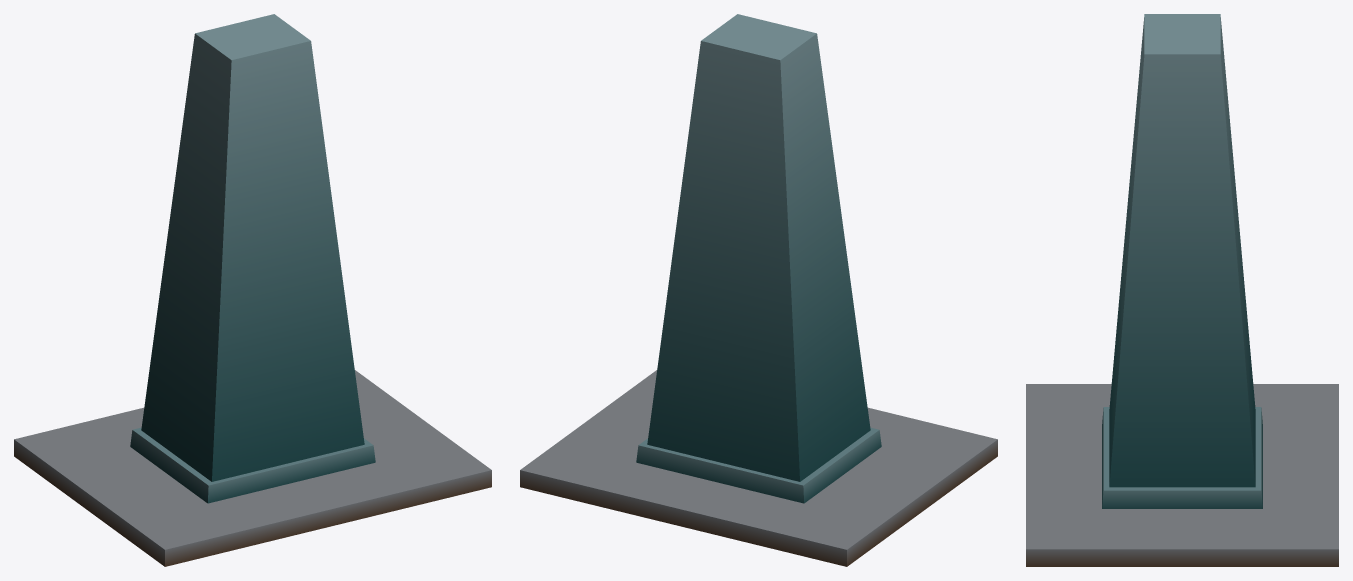
The picture shows the model from 3 angles, left to right: view 1: azimuth 30°, elevation 25°; view 2: azimuth 150°, elevation 25°; view 3: azimuth 270°, elevation 25°; orthographic projection. The views are drawn at different scales.
Parts seen in each view (by area): view 1: Cube.041; view 2: Cube.041; view 3: Cube.041.
Part boxes in pixels (<box>): Cube.041: <box>14,14,491,566</box>; Cube.041: <box>520,14,997,566</box>; Cube.041: <box>1026,14,1338,566</box>.
Size of the model in its own units: 10 by 12.71 by 8.
